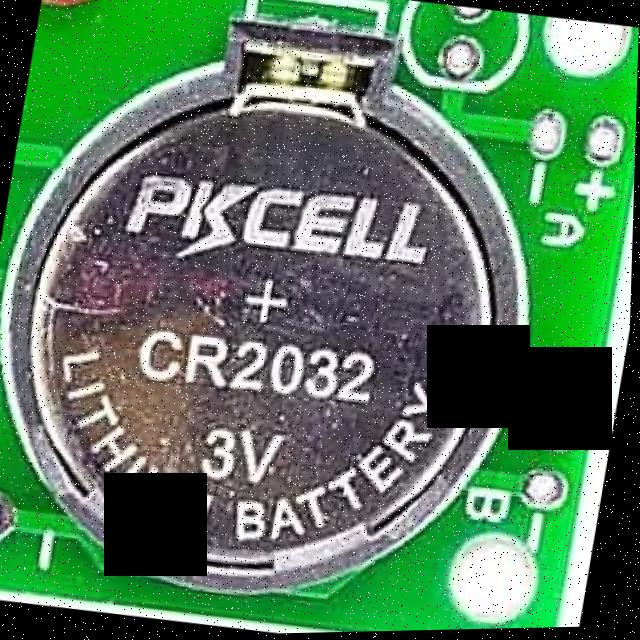battery: (0, 0, 566, 625)
